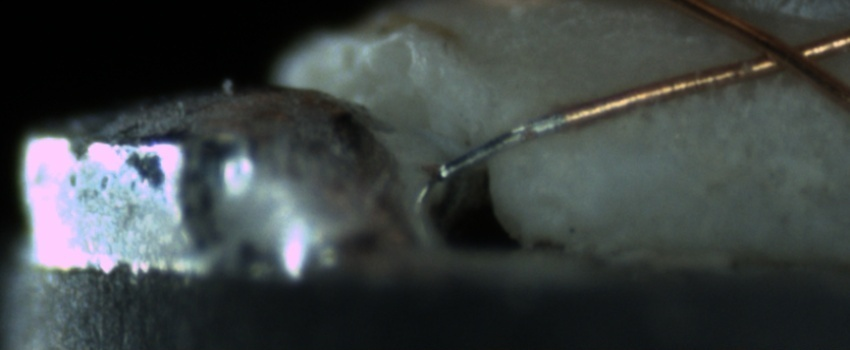CL: (739, 25, 840, 85)
TS: (438, 112, 570, 178)
